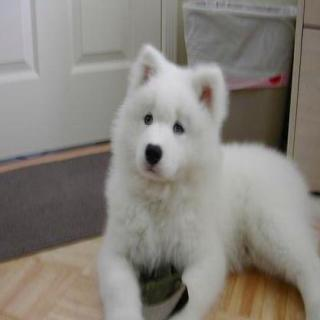dog: (109, 39, 229, 208)
nose: (143, 137, 164, 168)
